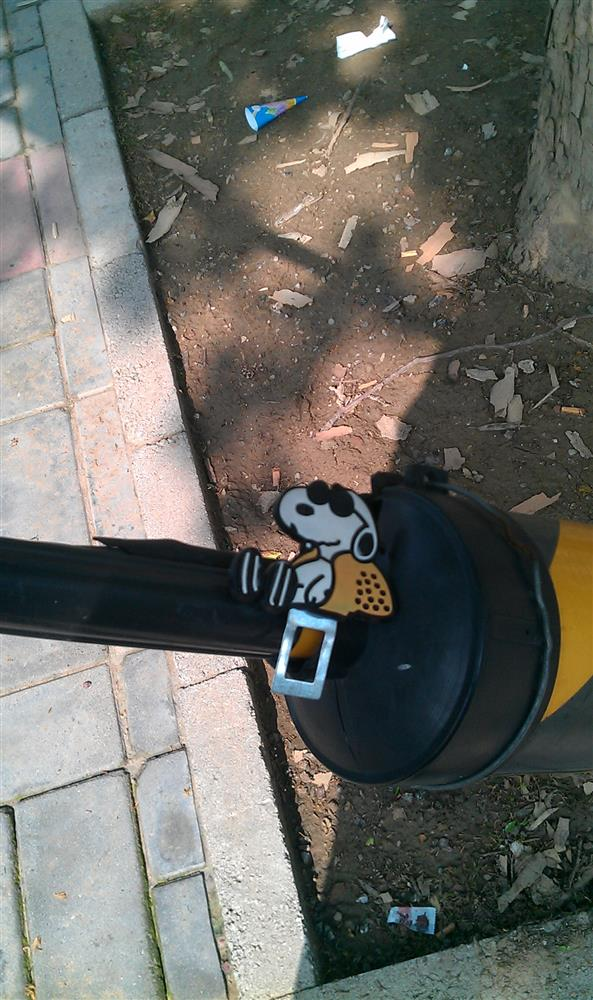DDog: (209, 477, 428, 642)
